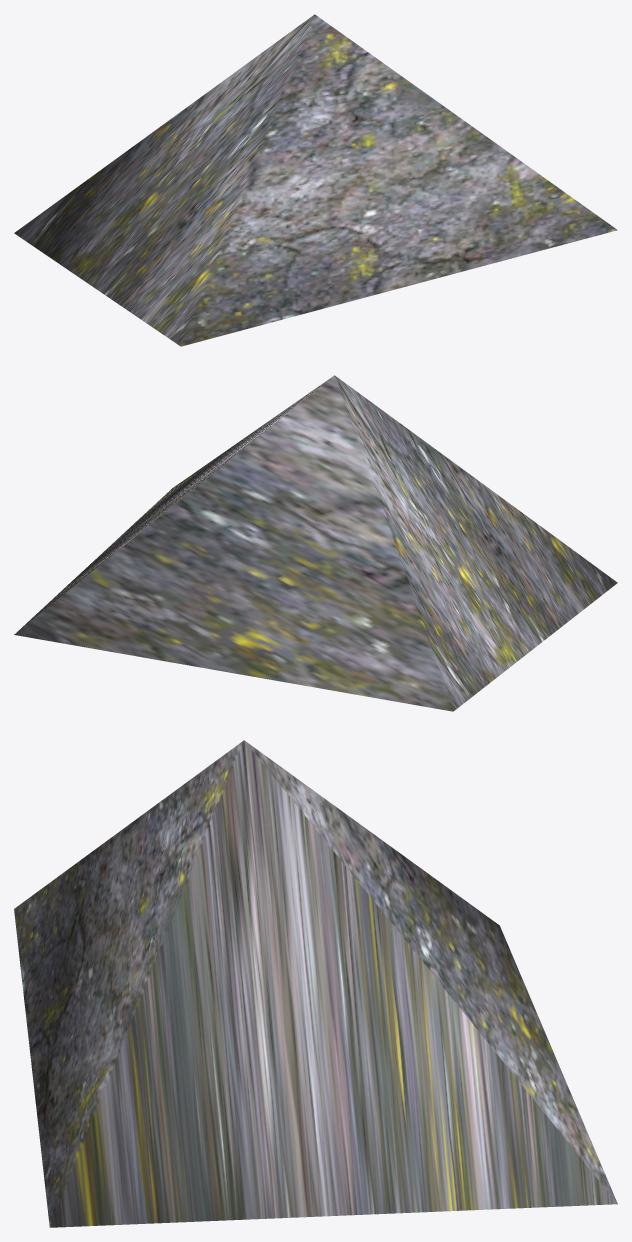
The model's file is rock_weatheredmossy_large_l3.fbx.
3 views of the same model, one above another, from view 1: azimuth 30°, elevation 25°; view 2: azimuth 150°, elevation 25°; view 3: azimuth 270°, elevation 25° (orthographic). The views are drawn at different scales.
Parts seen in each view (by area): view 1: mesh_node; view 2: mesh_node; view 3: mesh_node.
Part boxes in pixels (box(x1,y1,x2,y2)): mesh_node: box(14, 14, 617, 346); mesh_node: box(14, 375, 617, 711); mesh_node: box(14, 740, 617, 1227).
Size of the model in its own units: 0.8755 by 0.4322 by 0.7081.
1 material, 1 textured.
